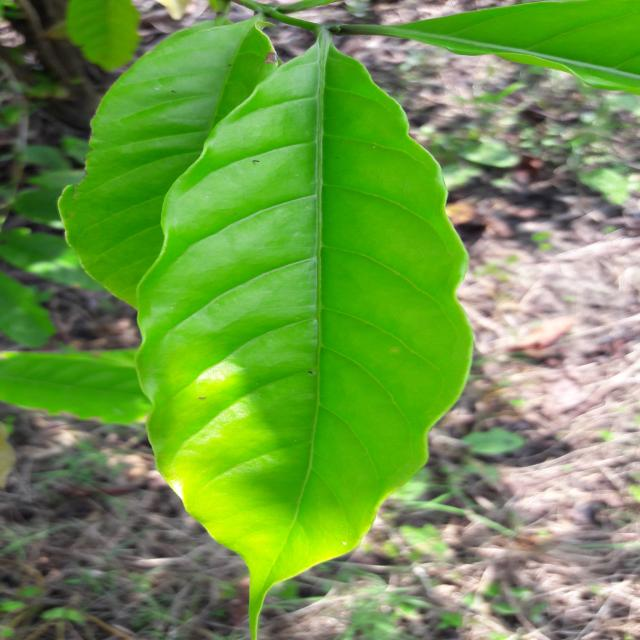Sanas: (132, 32, 473, 609)
